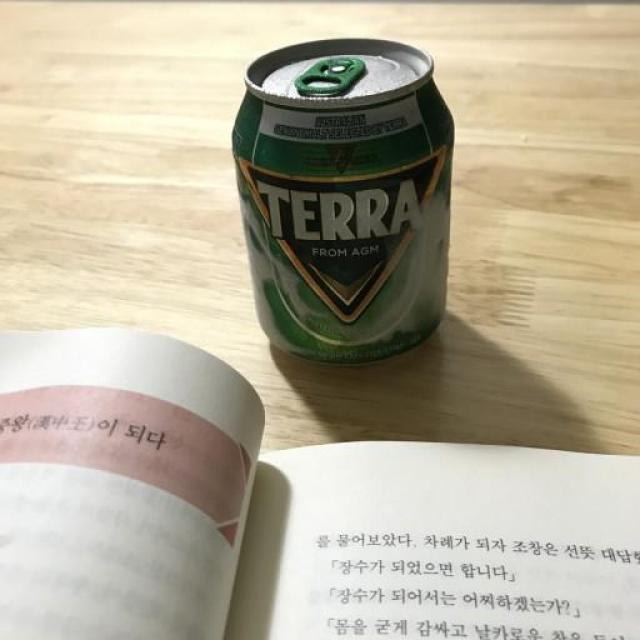beer-can: (230, 36, 470, 370)
